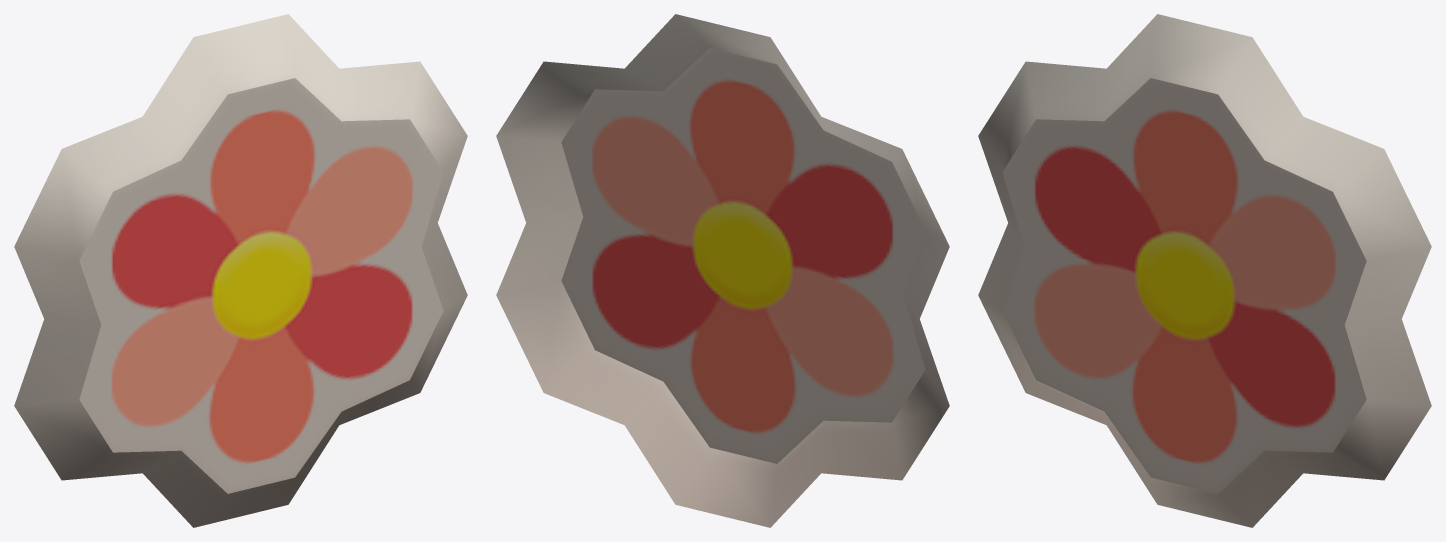
File: flower_sticker_01.fbx
3 views of the same model, side by side, from view 1: azimuth 30°, elevation 25°; view 2: azimuth 150°, elevation 25°; view 3: azimuth 330°, elevation 25° (orthographic).
Visible parts, largest first — view 1: flower_sticker_01; view 2: flower_sticker_01; view 3: flower_sticker_01.
Boxes of the visible parts, x1,y1,x2,y2 form: flower_sticker_01: (14,14,467,527); flower_sticker_01: (496,14,949,527); flower_sticker_01: (978,14,1431,527).
Bounding box in the file's own units: 20.77 × 21.47 × 1.62.
